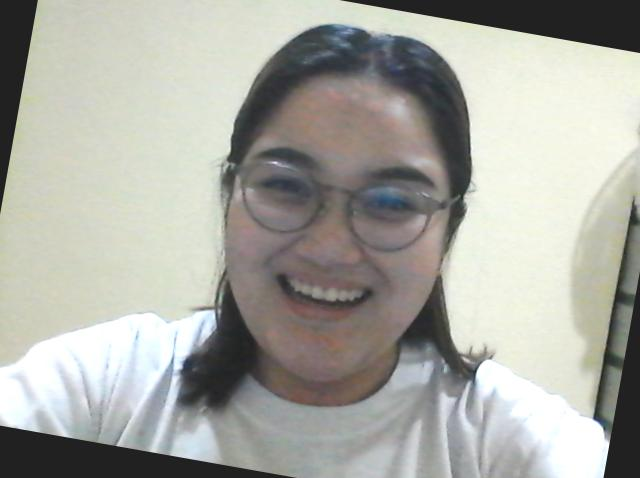senang: (185, 53, 460, 380)
